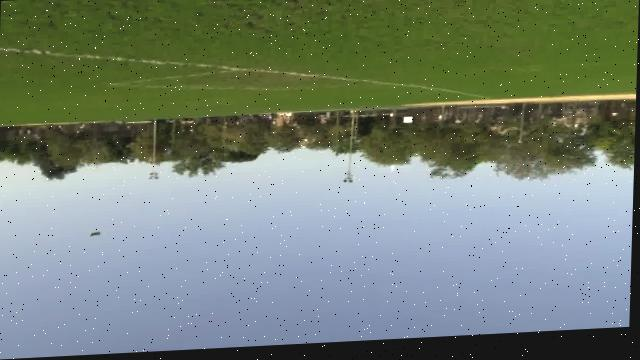drone: (86, 228, 103, 242)
